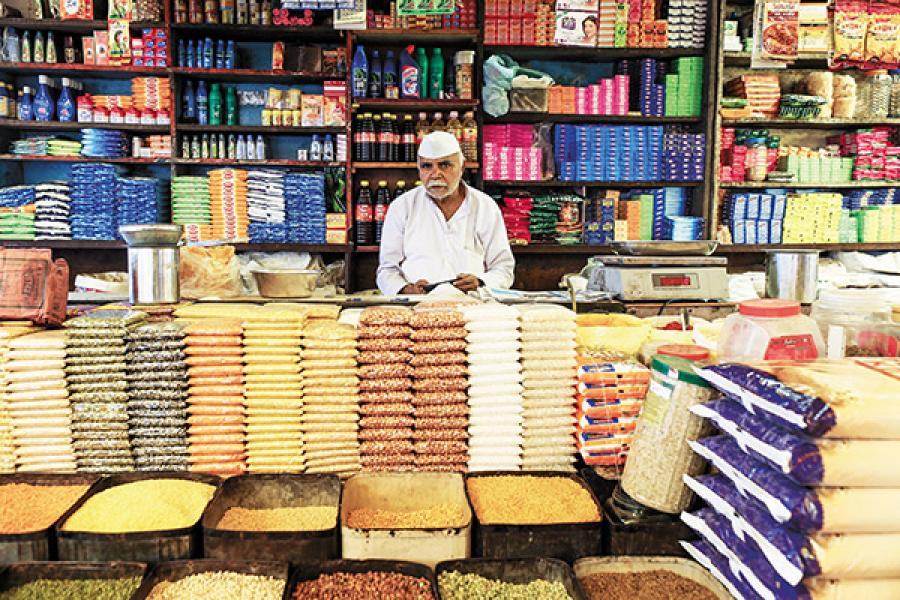Age_above_50: (417, 140, 465, 201)
E_Indian: (417, 140, 465, 201)
Emotion_Neutral: (417, 140, 465, 201)
G_Male: (417, 140, 465, 201)
